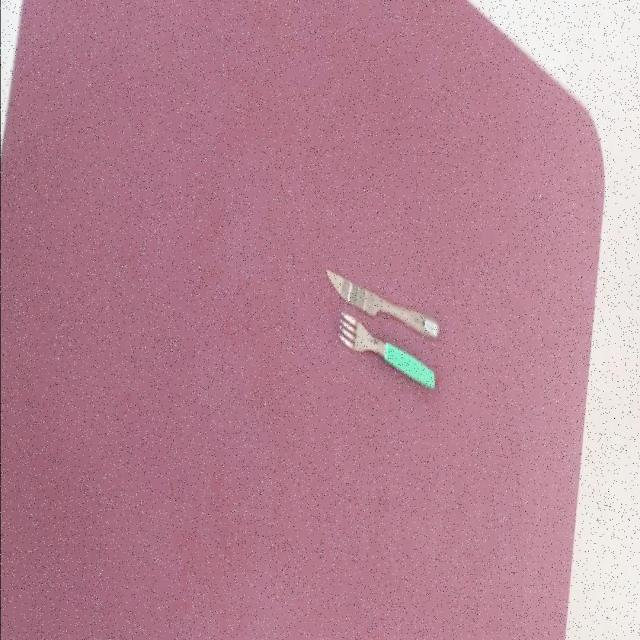Fork: (326, 267, 440, 338), (338, 310, 435, 389)
Knife: (326, 267, 441, 338)
